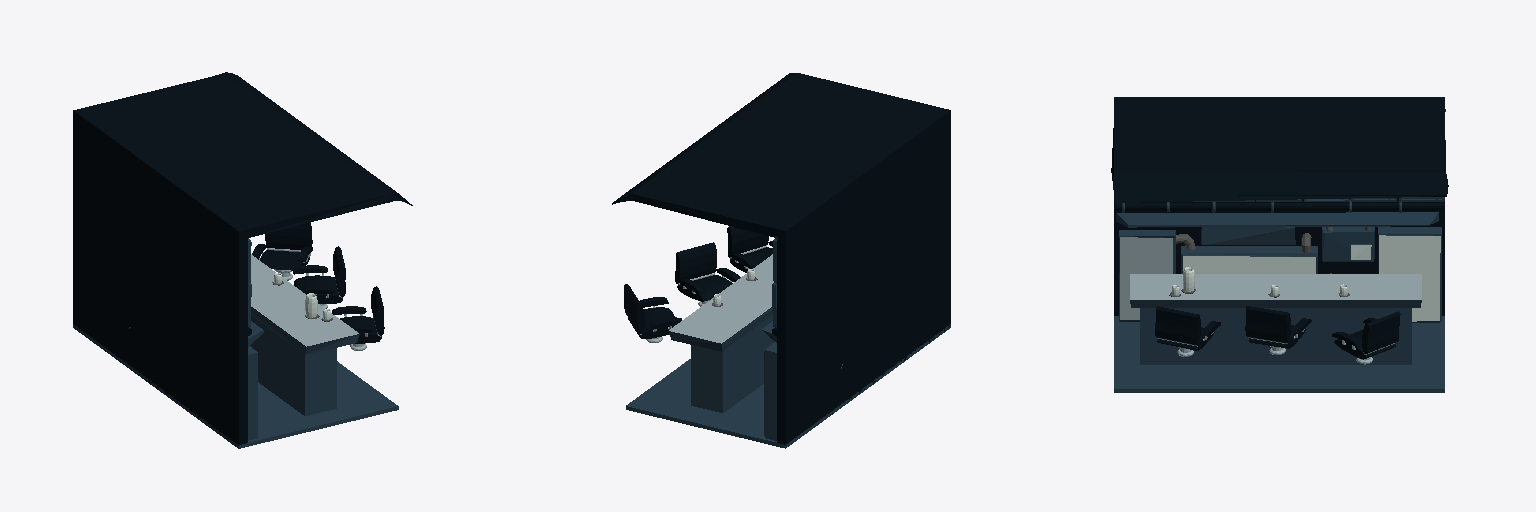
The picture shows the model from 3 angles: view 1: azimuth 30°, elevation 25°; view 2: azimuth 150°, elevation 25°; view 3: azimuth 270°, elevation 25°; orthographic projection.
Visible parts, largest first — view 1: group[number redacted], group[number redacted], group[number redacted], group[number redacted], group[number redacted]; view 2: group[number redacted], group[number redacted], group[number redacted], group[number redacted], group[number redacted]; view 3: group[number redacted], group[number redacted], group[number redacted], group[number redacted], group[number redacted], group[number redacted], group[number redacted], group[number redacted], group[number redacted], group[number redacted], group[number redacted], group[number redacted].
Part boxes in pixels (x1,y1,x2,y2): group[number redacted]: (73,72,412,448); group[number redacted]: (252,222,312,280); group[number redacted]: (293,246,345,308); group[number redacted]: (332,286,384,350); group[number redacted]: (248,346,257,440); group[number redacted]: (612,73,950,448); group[number redacted]: (675,242,740,306); group[number redacted]: (624,284,681,342); group[number redacted]: (727,226,772,272); group[number redacted]: (764,342,776,440); group[number redacted]: (1111,97,1448,392); group[number redacted]: (1378,227,1441,322); group[number redacted]: (1119,230,1175,321); group[number redacted]: (1116,203,1443,210); group[number redacted]: (1183,256,1315,273); group[number redacted]: (1155,306,1220,356); group[number redacted]: (1245,306,1311,354); group[number redacted]: (1332,311,1400,364); group[number redacted]: (1201,227,1295,244); group[number redacted]: (1322,227,1374,261); group[number redacted]: (1181,246,1317,273); group[number redacted]: (1193,197,1444,201).
Bounding box in the file's own units: 1.67 × 1.75 × 2.42.